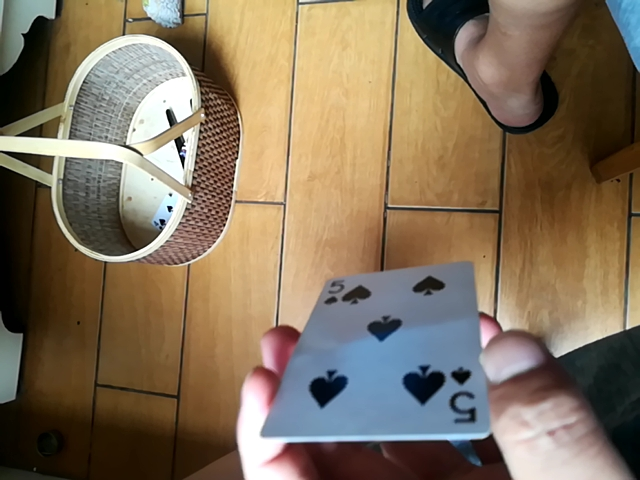ht 5: (255, 258, 501, 448)
